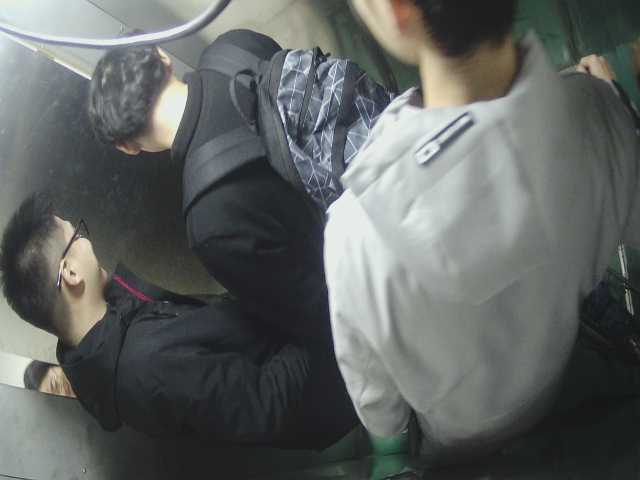bag: (239, 43, 384, 198)
person: (323, 10, 622, 439), (83, 23, 393, 350), (2, 206, 365, 451)
